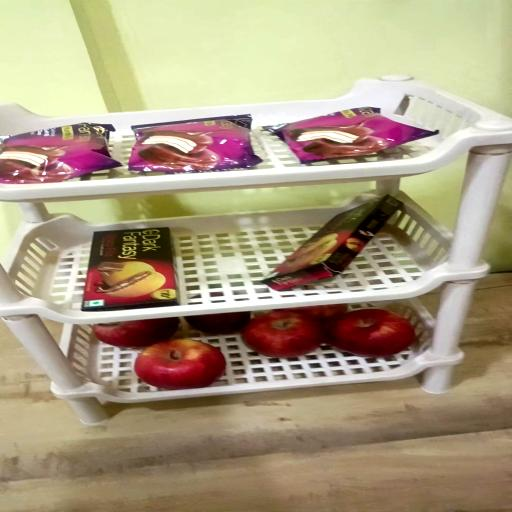Apple: (134, 339, 224, 390), (327, 309, 416, 358), (244, 310, 326, 358), (92, 319, 179, 349), (185, 312, 251, 335), (289, 305, 349, 329)
Choco Fills: (262, 196, 404, 293), (82, 228, 178, 312)
Choco Pie: (264, 106, 438, 164), (131, 114, 265, 173), (0, 121, 121, 183)
